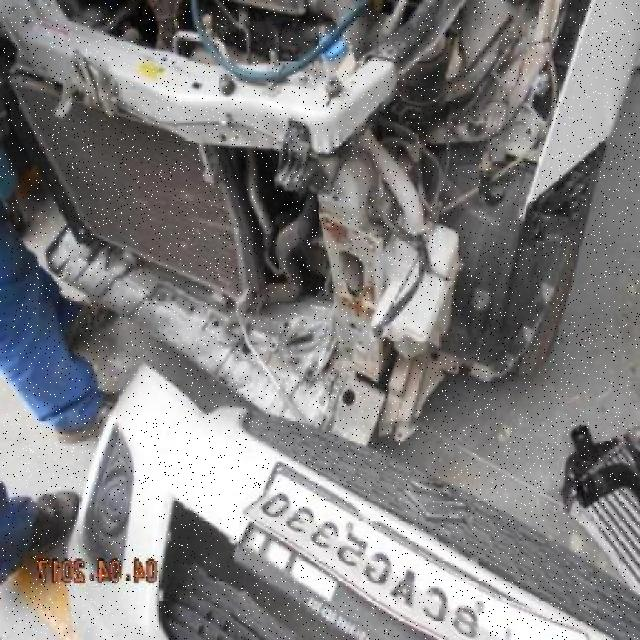damage: (3, 6, 603, 436)
